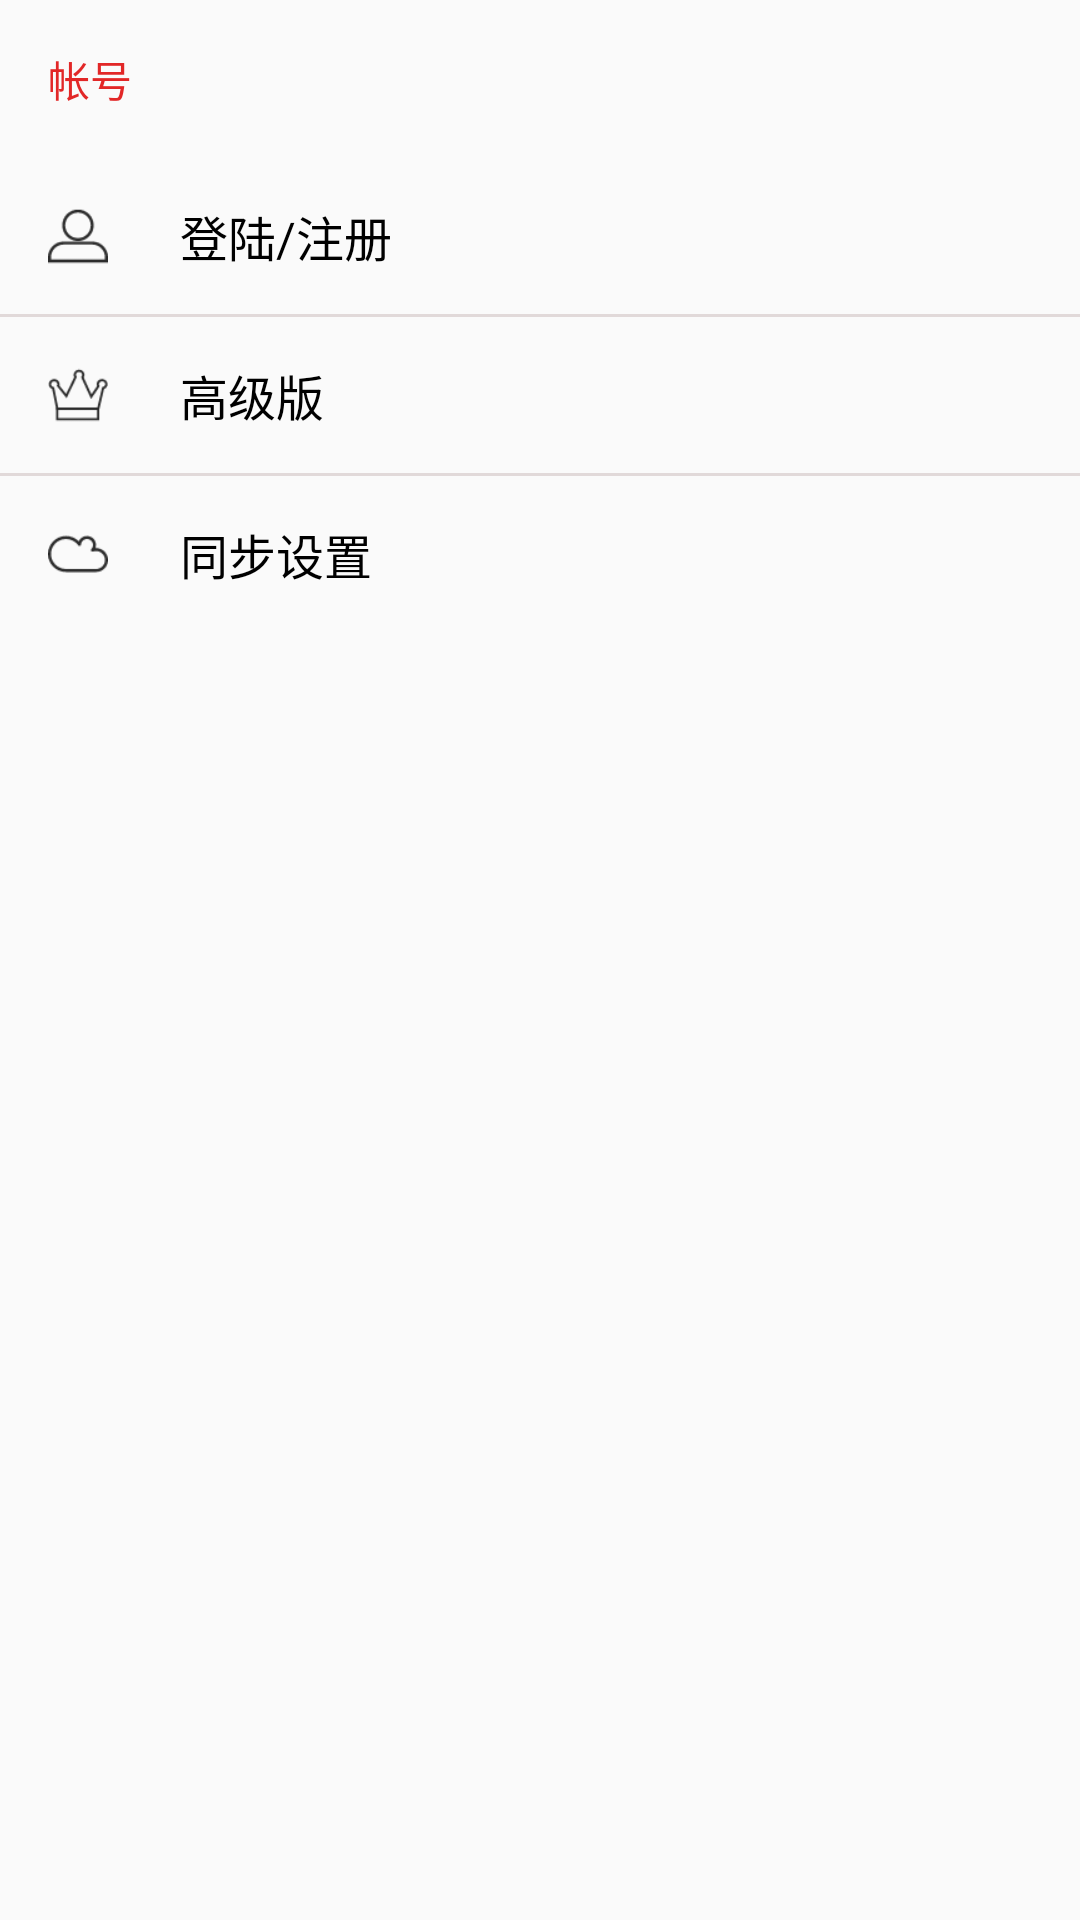

Where icons sit on this 1080 × 1920 app screen, as (x1, y1, x2, y2):
cloud: (48, 535, 108, 573)
king: (48, 369, 108, 421)
user: (48, 209, 108, 264)
